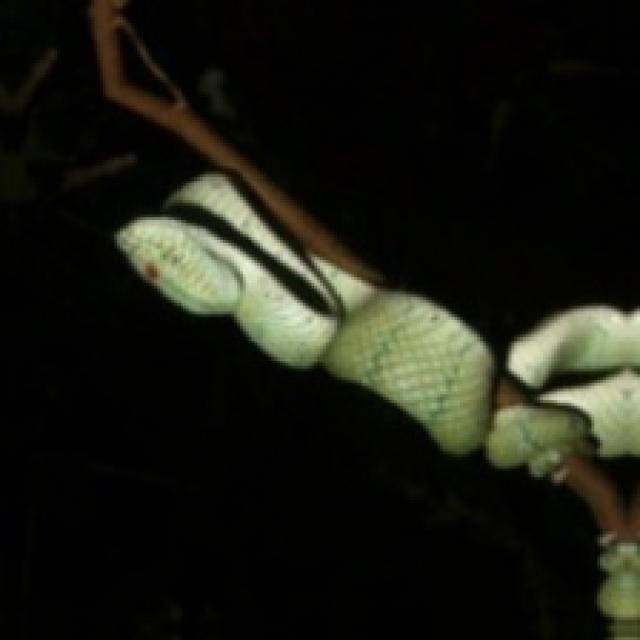north ph temple pitviper: (114, 171, 637, 474)
